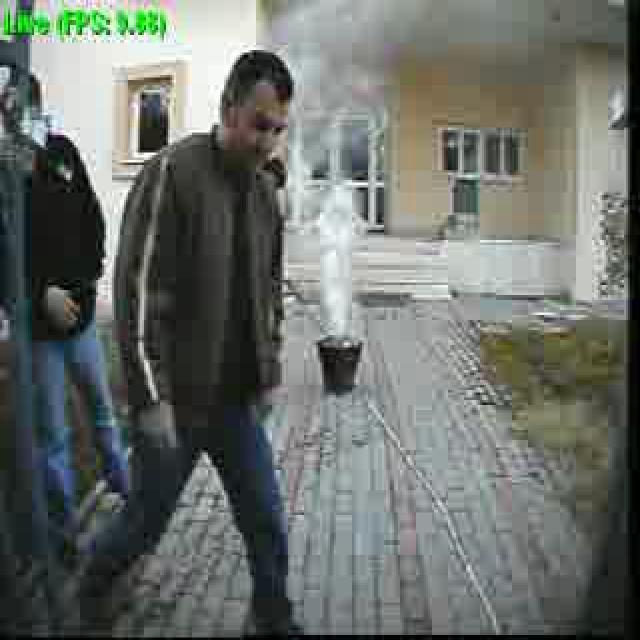Smoke: (304, 46, 371, 324)
